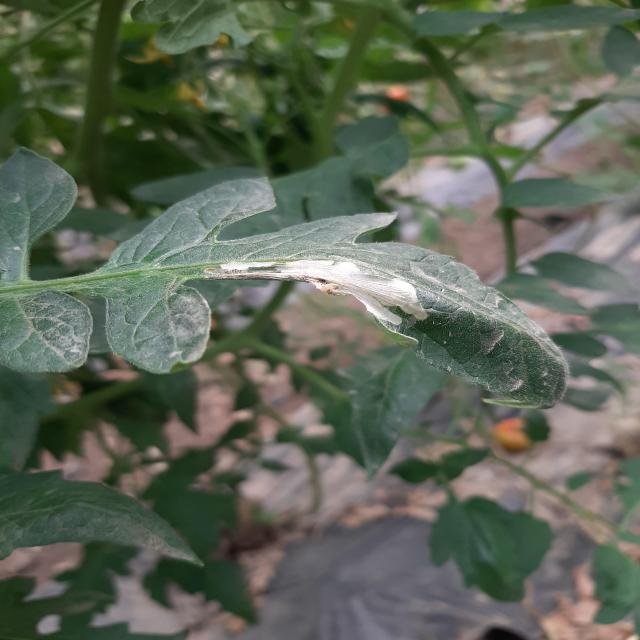Tuta absoluta: (202, 227, 436, 334)
